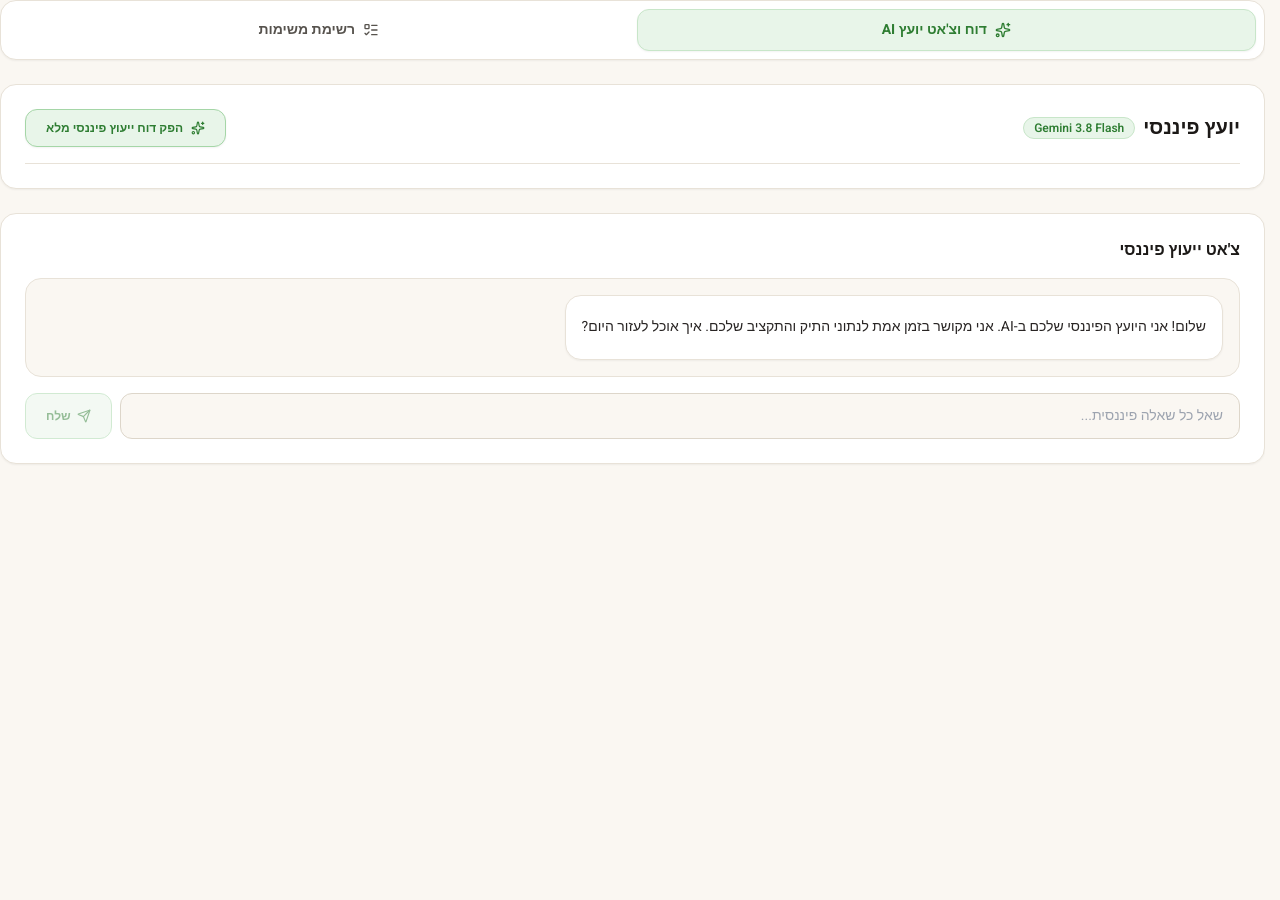
Test: AIAdvisorTab with Task List integration › renders sub-tabs and switches between AI Advisor view and Tasks view with רשימת משימות title
Expected: the text "יועץ פיננסי" is shown, [1143, 114, 1240, 142]
Expected: the text "Gemini 3.8 Flash" is shown, [1023, 117, 1135, 139]
Switch to tasks
Click the button "רשימת משימות": point(319, 30) [9, 9, 628, 51]
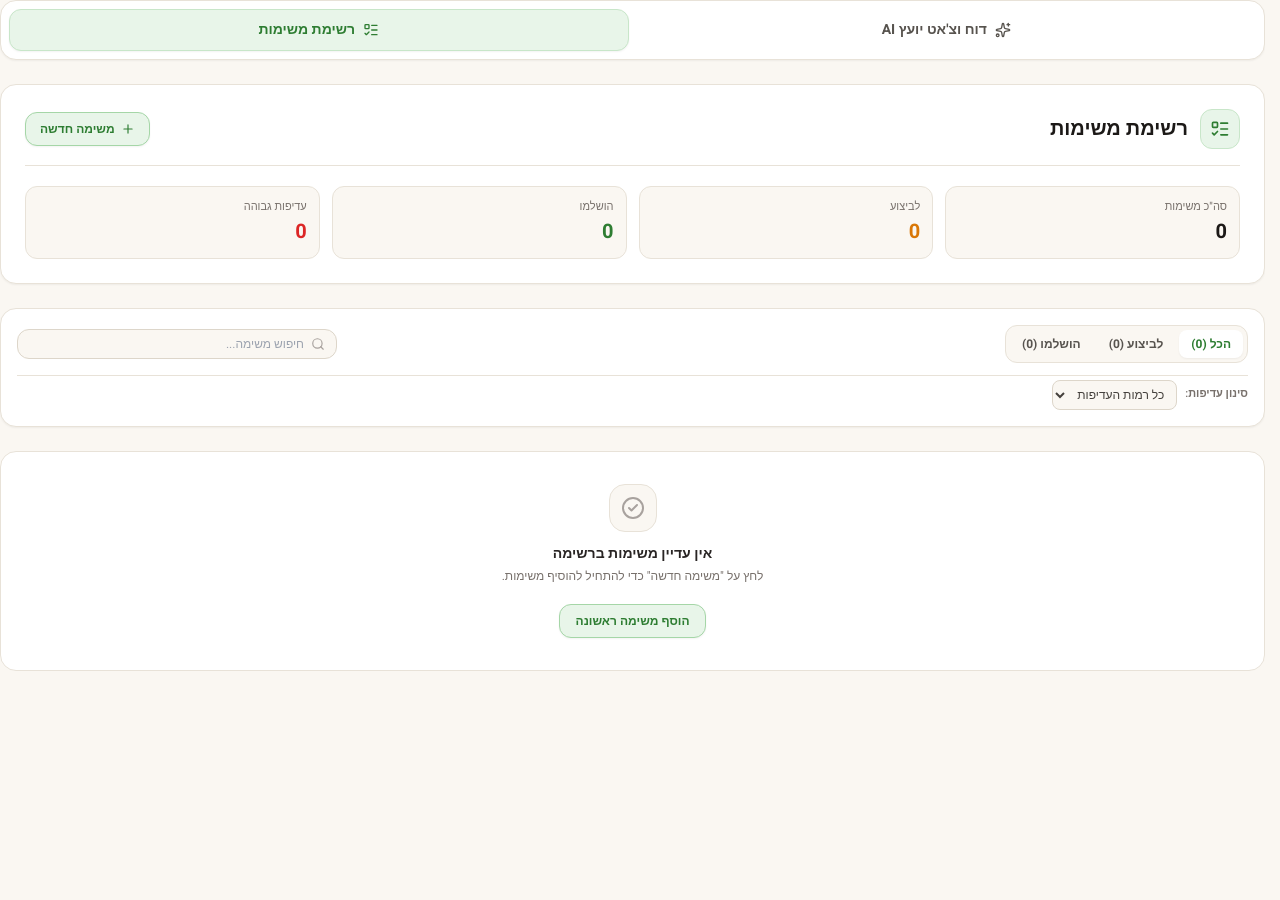
Switch back to advisor
Click the button "דוח וצ'אט יועץ AI": point(946, 30) [636, 9, 1256, 51]
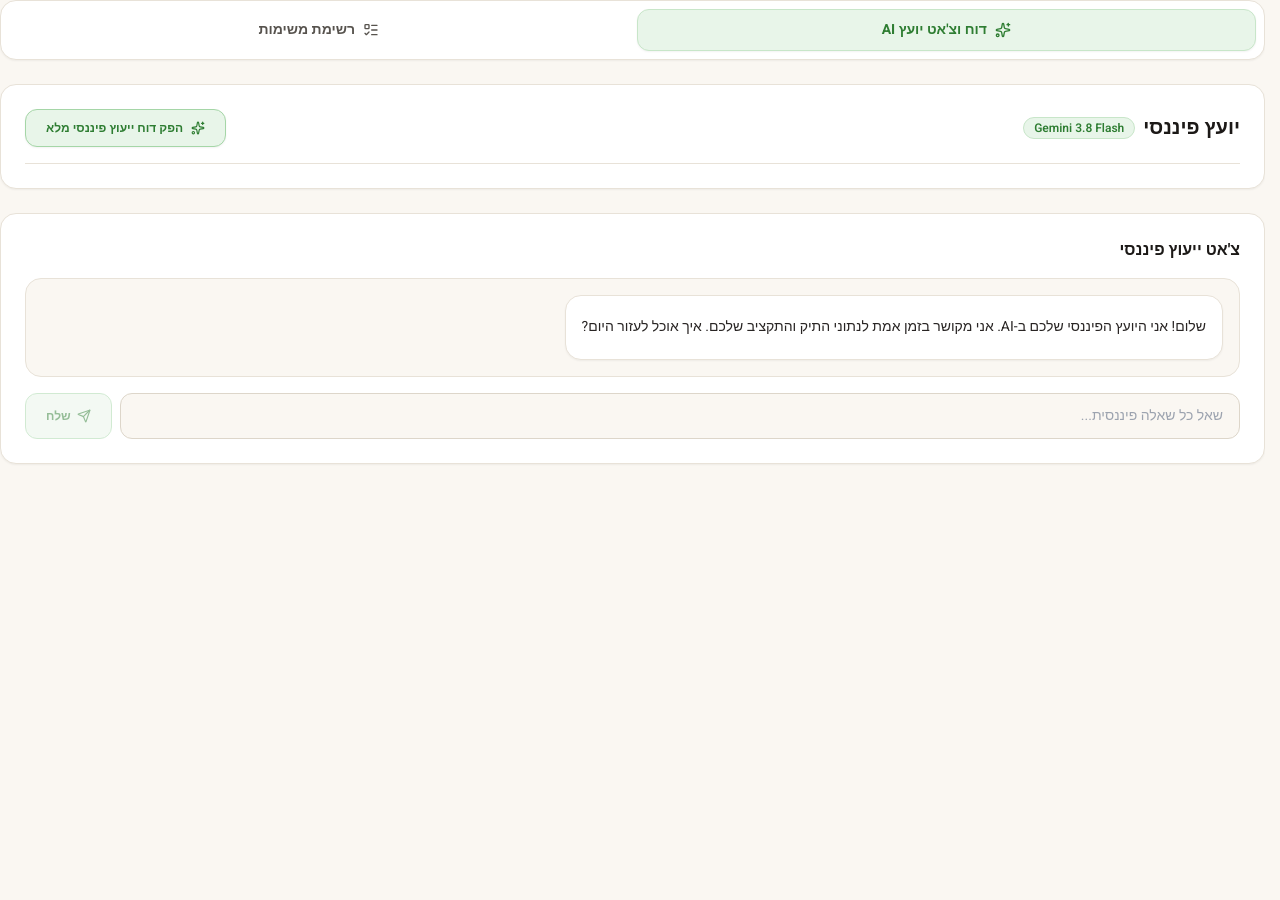
Expected: the text "הפק דוח ייעוץ פיננסי מלא" is shown, [46, 120, 183, 136]
